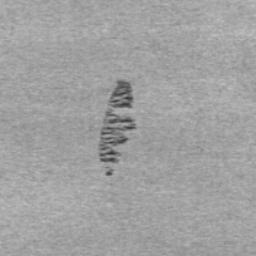Secondary rust skin: (99, 110, 137, 164), (108, 80, 134, 109), (105, 169, 114, 177)
